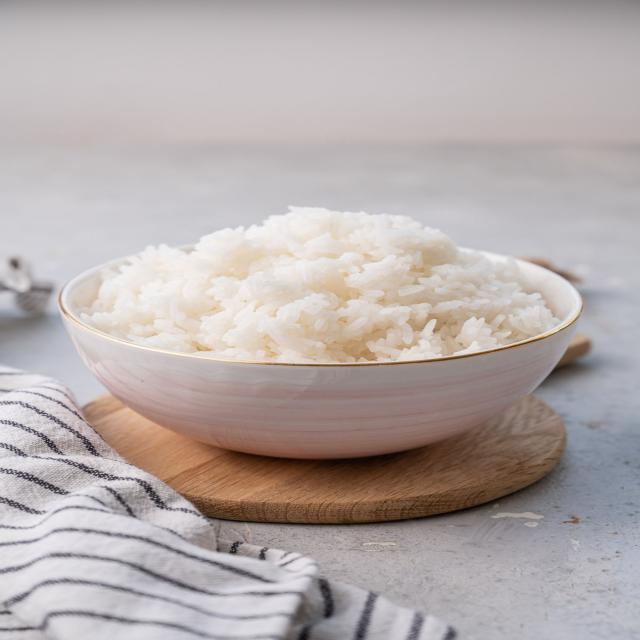rice: (96, 200, 558, 361)
